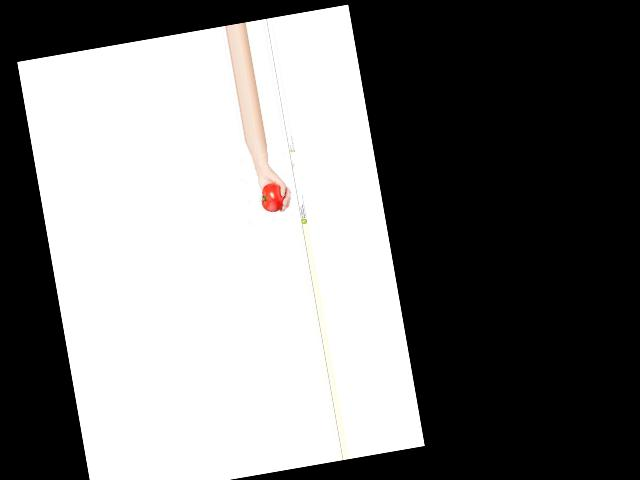tomato: (258, 180, 287, 213)
